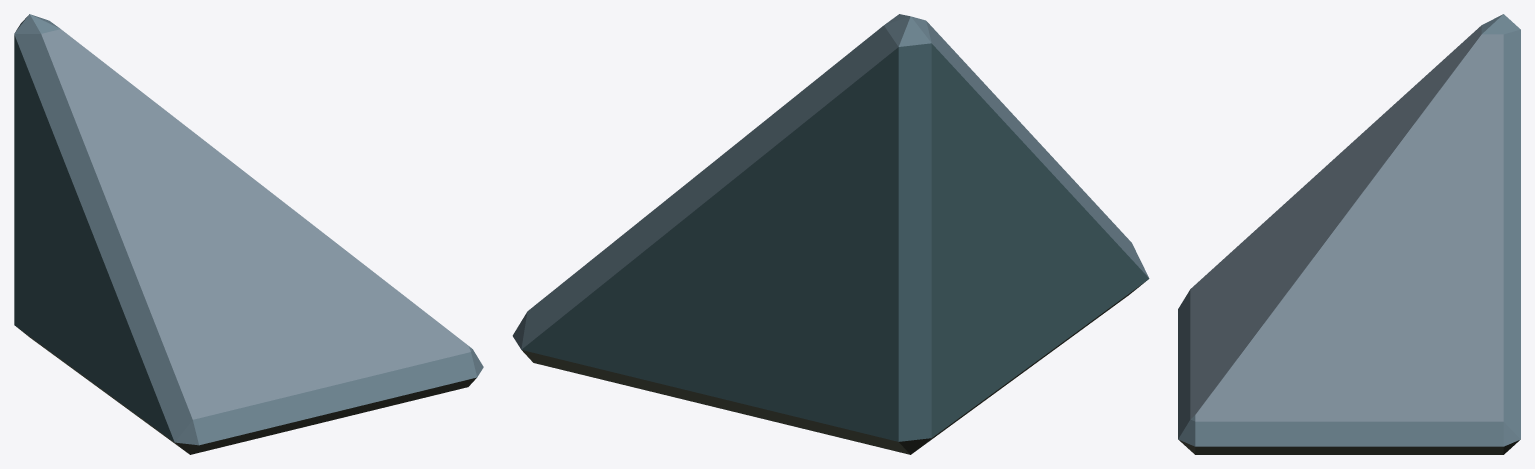
The model's file is m_kub_diagonalGrey_cornerOut.FBX.
The picture shows the model from 3 angles, left to right: view 1: azimuth 30°, elevation 25°; view 2: azimuth 150°, elevation 25°; view 3: azimuth 270°, elevation 25°; orthographic projection. The views are drawn at different scales.
Parts seen in each view (by area): view 1: m_kub_diagonalGrey_cornerOut; view 2: m_kub_diagonalGrey_cornerOut; view 3: m_kub_diagonalGrey_cornerOut.
Part boxes in pixels (x1=…): m_kub_diagonalGrey_cornerOut: x1=14, y1=14, x2=483, y2=454; m_kub_diagonalGrey_cornerOut: x1=512, y1=14, x2=1149, y2=454; m_kub_diagonalGrey_cornerOut: x1=1178, y1=14, x2=1520, y2=454.
Size of the model in its own units: 2 by 2 by 2.
